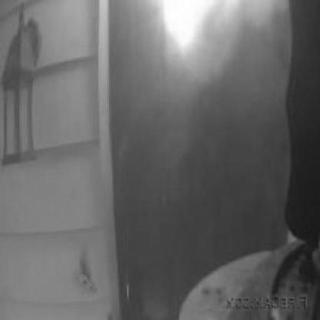Fire: (148, 0, 224, 56)
